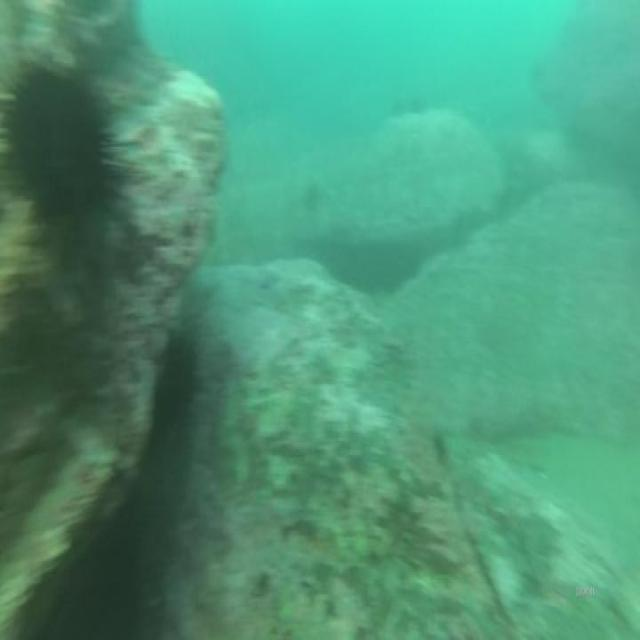echinus: (5, 49, 112, 239)
